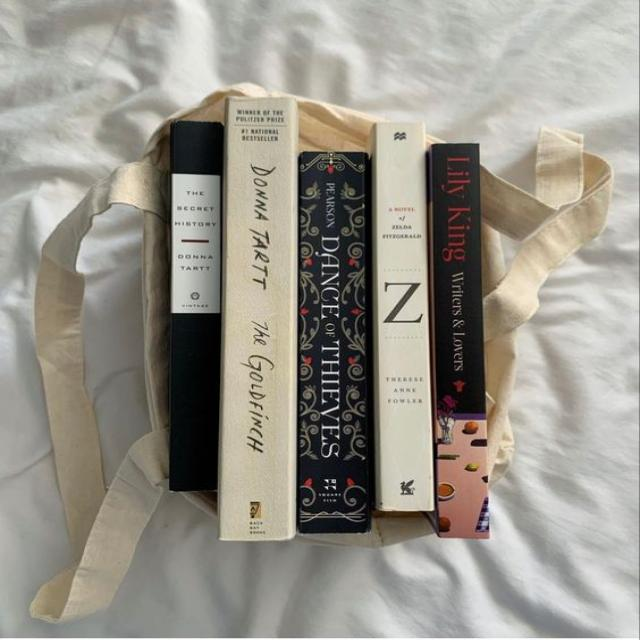book: (219, 100, 297, 540), (297, 152, 371, 533), (428, 144, 489, 537), (372, 122, 433, 510), (169, 121, 222, 491)
